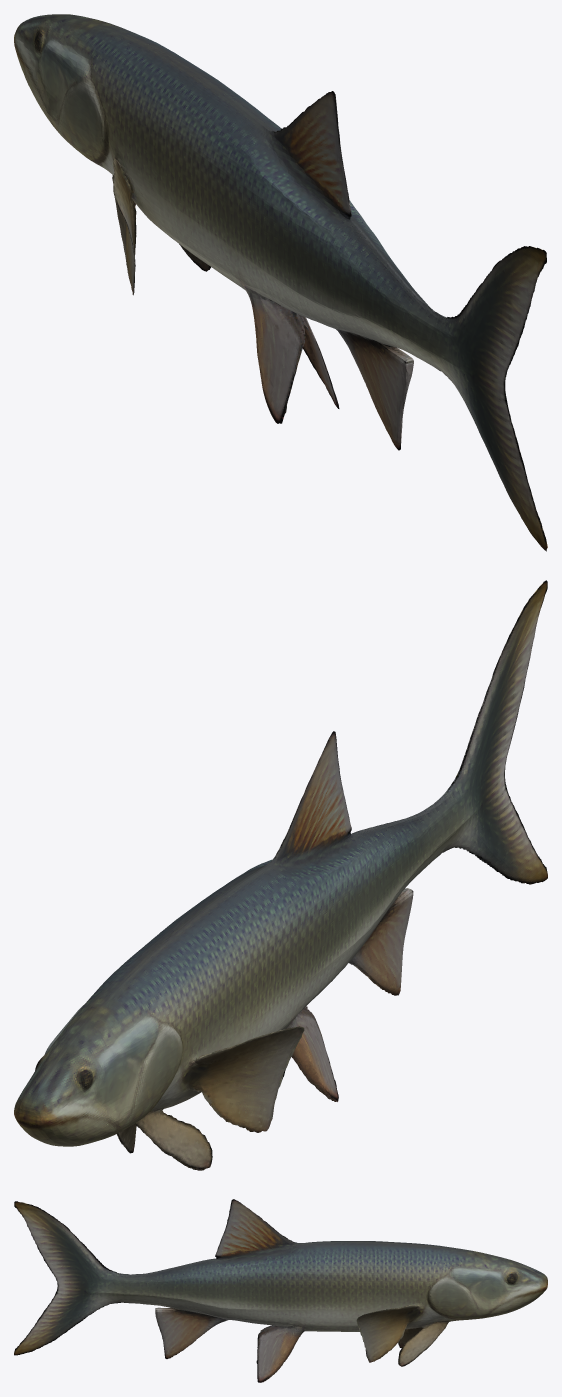
3 views of the same model, one above another, from view 1: azimuth 30°, elevation 25°; view 2: azimuth 150°, elevation 25°; view 3: azimuth 270°, elevation 25° (orthographic). The views are drawn at different scales.
Parts seen in each view (by area): view 1: world; view 2: world; view 3: world.
Part boxes in pixels (<box>): world: <box>14,14,547,551</box>; world: <box>14,580,547,1170</box>; world: <box>14,1199,547,1382</box>.
Size of the model in its own units: 0.2069 by 0.3651 by 1.
Materials: 1 (1 with a texture image).
